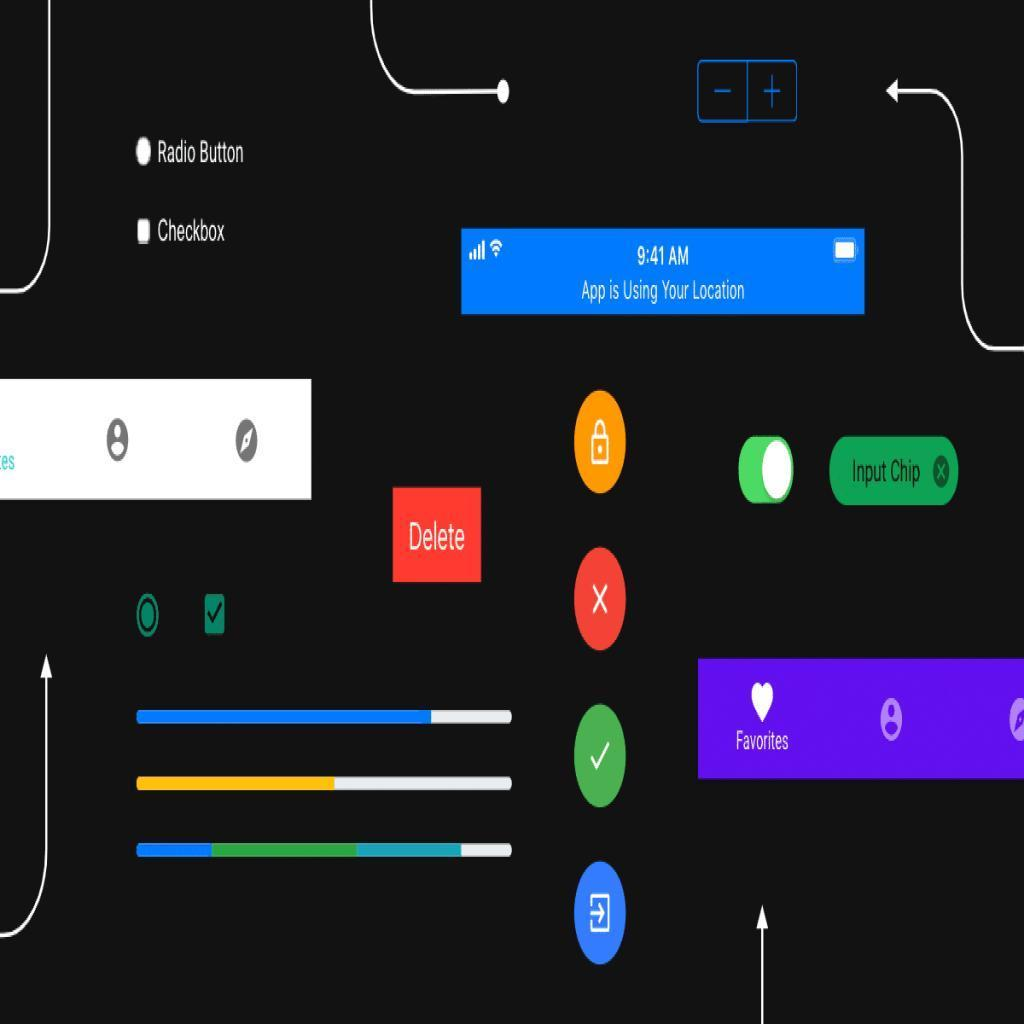button: (832, 438, 958, 507), (392, 490, 483, 584)
checkbox: (205, 595, 228, 637), (137, 221, 153, 247)
label: (157, 138, 246, 166), (155, 218, 234, 244)
radio: (136, 592, 164, 644), (136, 136, 154, 167)
slider: (140, 710, 513, 728), (138, 843, 514, 858), (137, 777, 513, 790)
switch: (738, 436, 794, 506)
